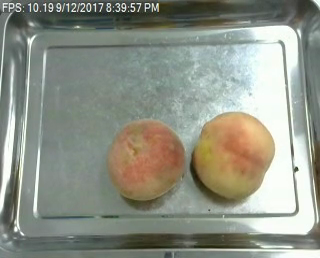Peach: (191, 111, 275, 199), (108, 118, 187, 200)
